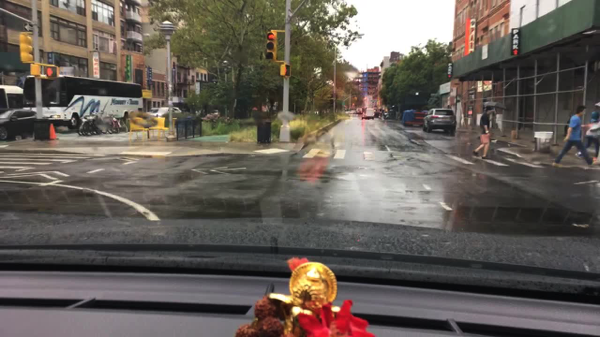bike: (77, 117, 97, 135), (85, 118, 106, 134), (96, 117, 117, 133), (111, 118, 128, 133)
bus: (25, 74, 143, 131)
car: (0, 107, 38, 140), (422, 107, 457, 135), (0, 84, 25, 110), (148, 106, 183, 118), (205, 108, 221, 118), (384, 108, 396, 120), (356, 107, 363, 114), (375, 109, 381, 117), (344, 109, 350, 115), (350, 109, 356, 114)
person: (550, 106, 598, 169), (472, 101, 506, 161), (576, 100, 599, 163)
traffic light: (20, 33, 32, 61), (264, 30, 275, 59), (29, 64, 44, 75), (46, 66, 58, 78), (279, 64, 289, 77)
truck: (360, 108, 375, 120)
